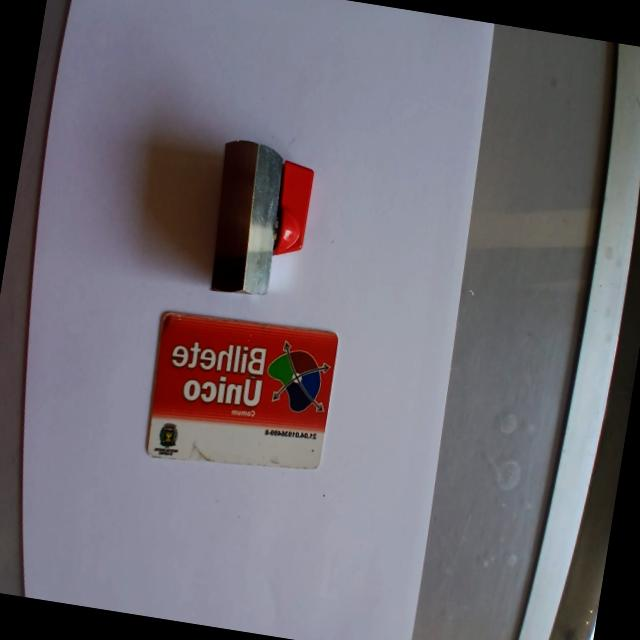cartao: (142, 304, 341, 484)
rosca_interna: (203, 138, 318, 303)
